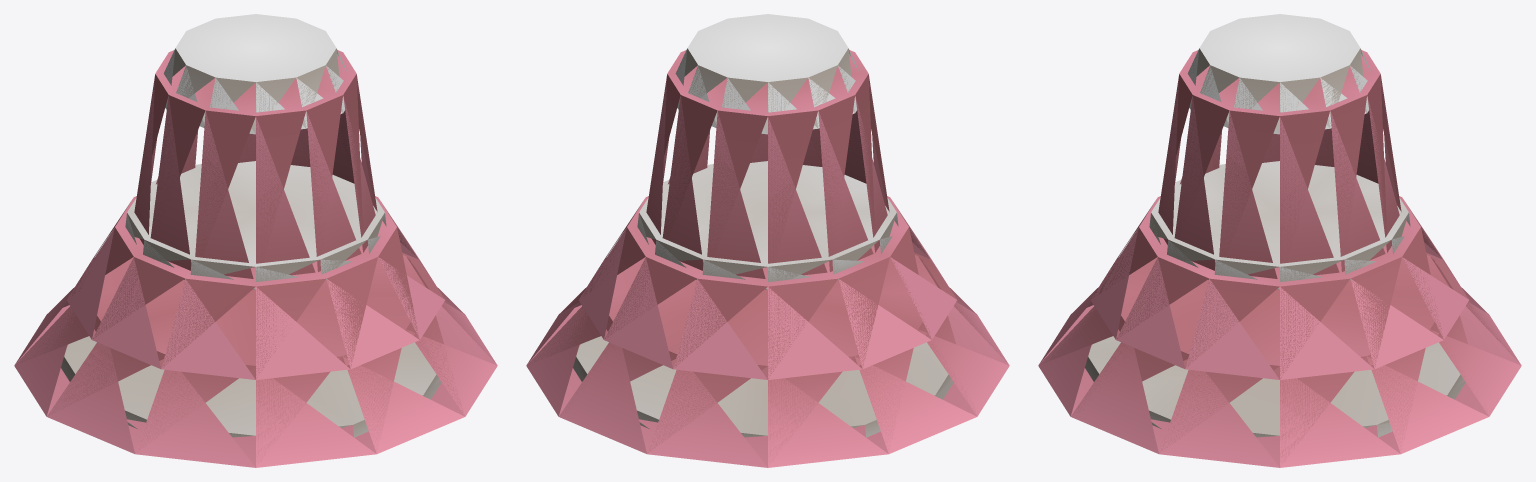
Rendered from girl-wizard-body.glb.
3 views of the same model, side by side, from view 1: azimuth 30°, elevation 25°; view 2: azimuth 150°, elevation 25°; view 3: azimuth 270°, elevation 25° (orthographic).
Visible parts, largest first — view 1: player_girl-wizard:body; view 2: player_girl-wizard:body; view 3: player_girl-wizard:body.
Boxes of the visible parts, x1,y1,x2,y2 form: player_girl-wizard:body: (14, 14, 497, 467); player_girl-wizard:body: (526, 14, 1009, 467); player_girl-wizard:body: (1038, 14, 1521, 467).
Size of the model in its own units: 0.6 by 0.441 by 0.6.
